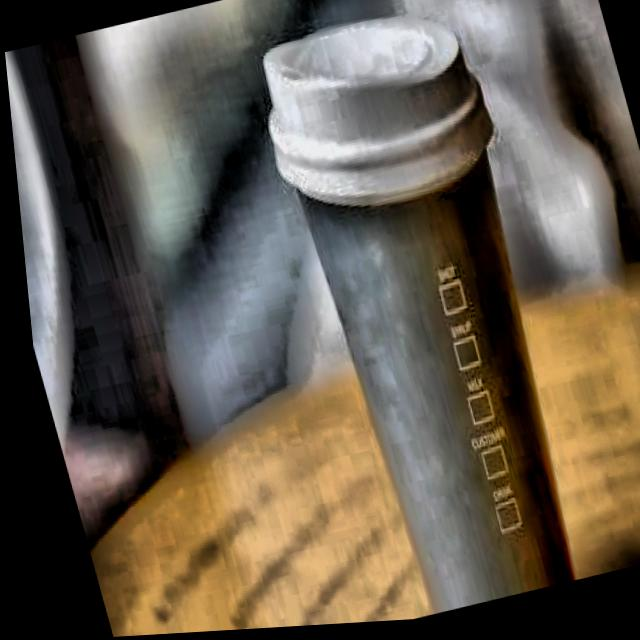Cup: (248, 10, 590, 629)
